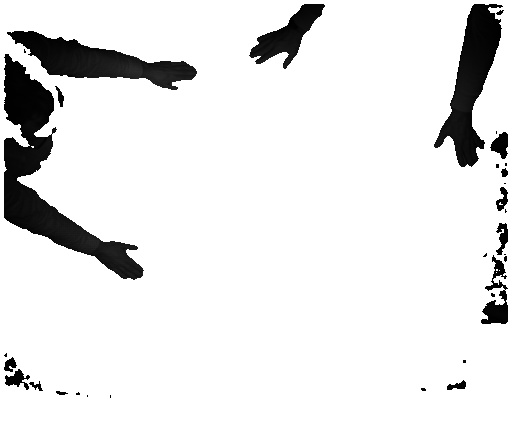hand: (432, 116, 486, 167), (248, 27, 301, 71), (149, 56, 199, 95), (103, 240, 143, 279)
